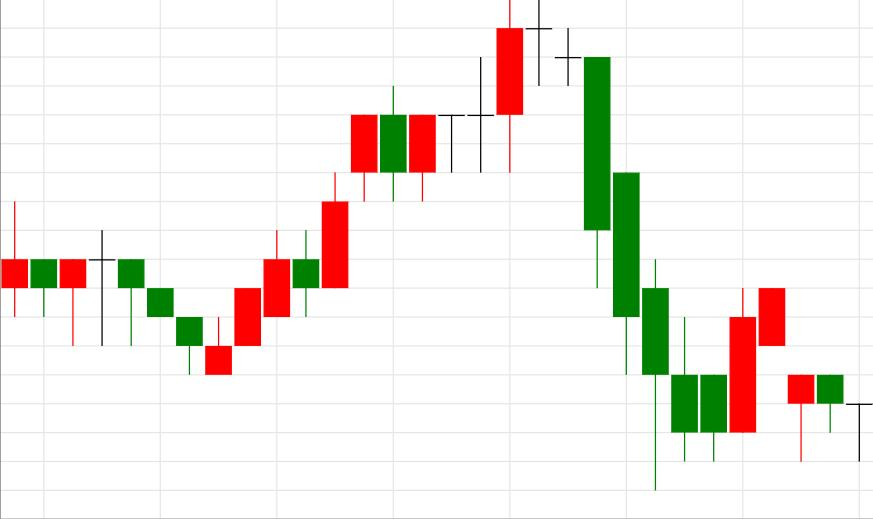three_black_crows_fall: (322, 0, 668, 492)
